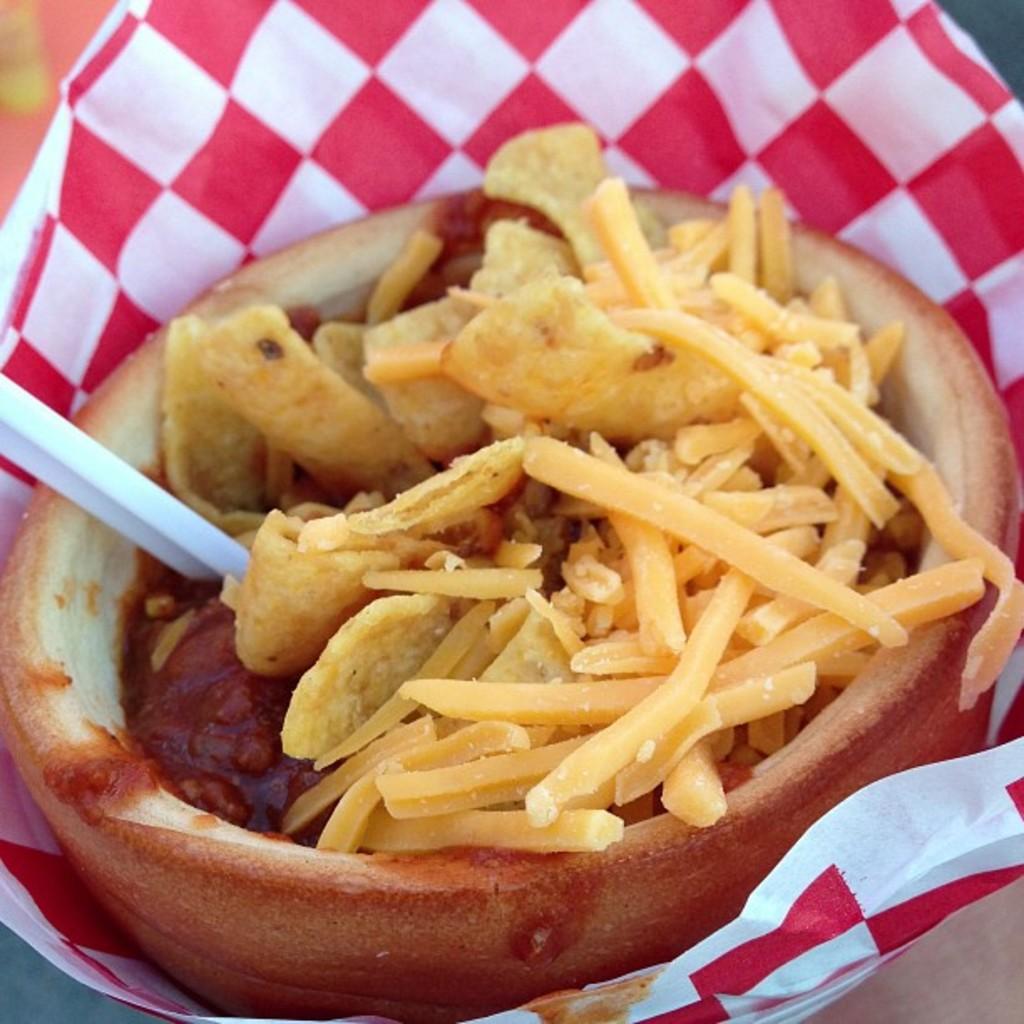French fries: (279, 185, 1022, 865)
